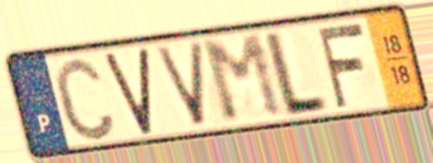C: (50, 53, 119, 144)
F: (313, 19, 367, 111)
L: (263, 27, 331, 121)
M: (197, 30, 289, 127)
V: (151, 39, 209, 129), (101, 44, 154, 139)
